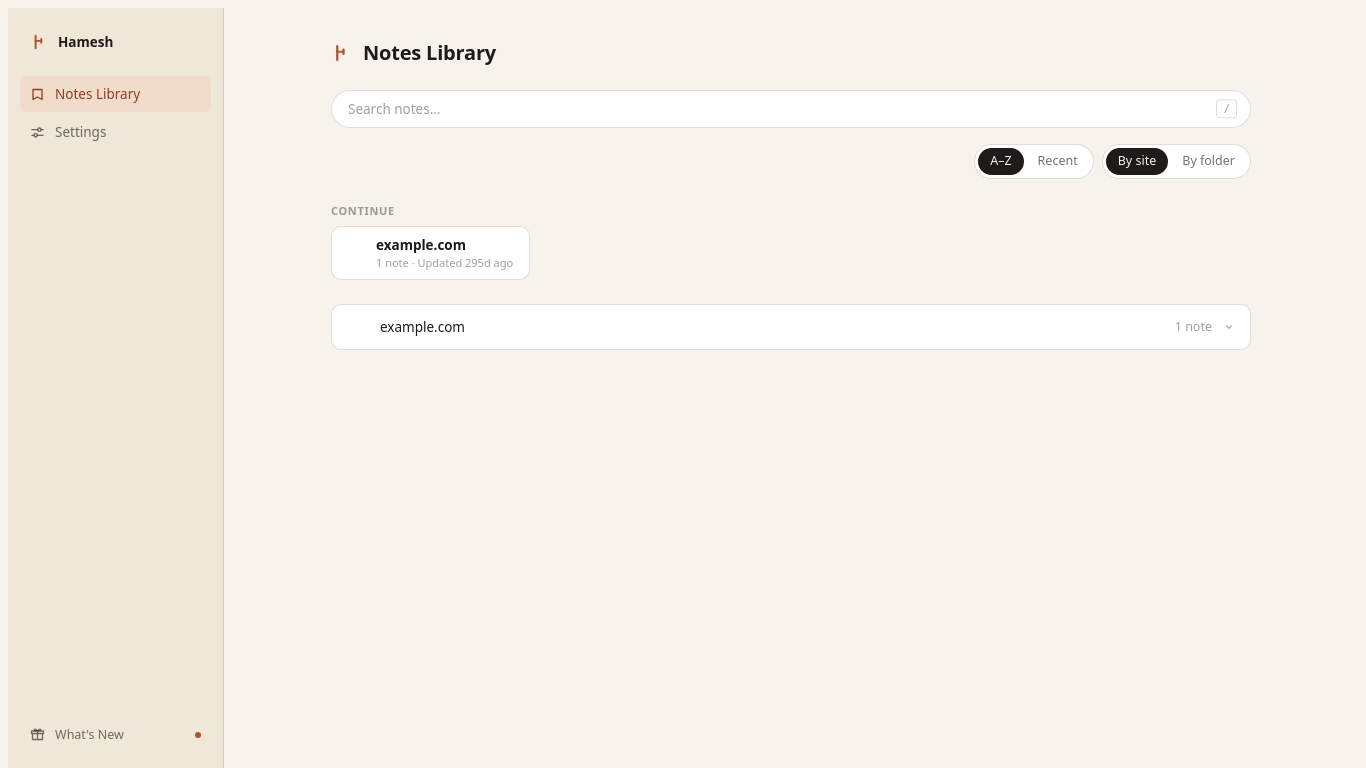
Notes Library page › falls back to the URL pathname (never "Untitled page") when a note has no pageContext title
Click the button "example.com 1 note" at (422, 327), box [332,305,1250,349]
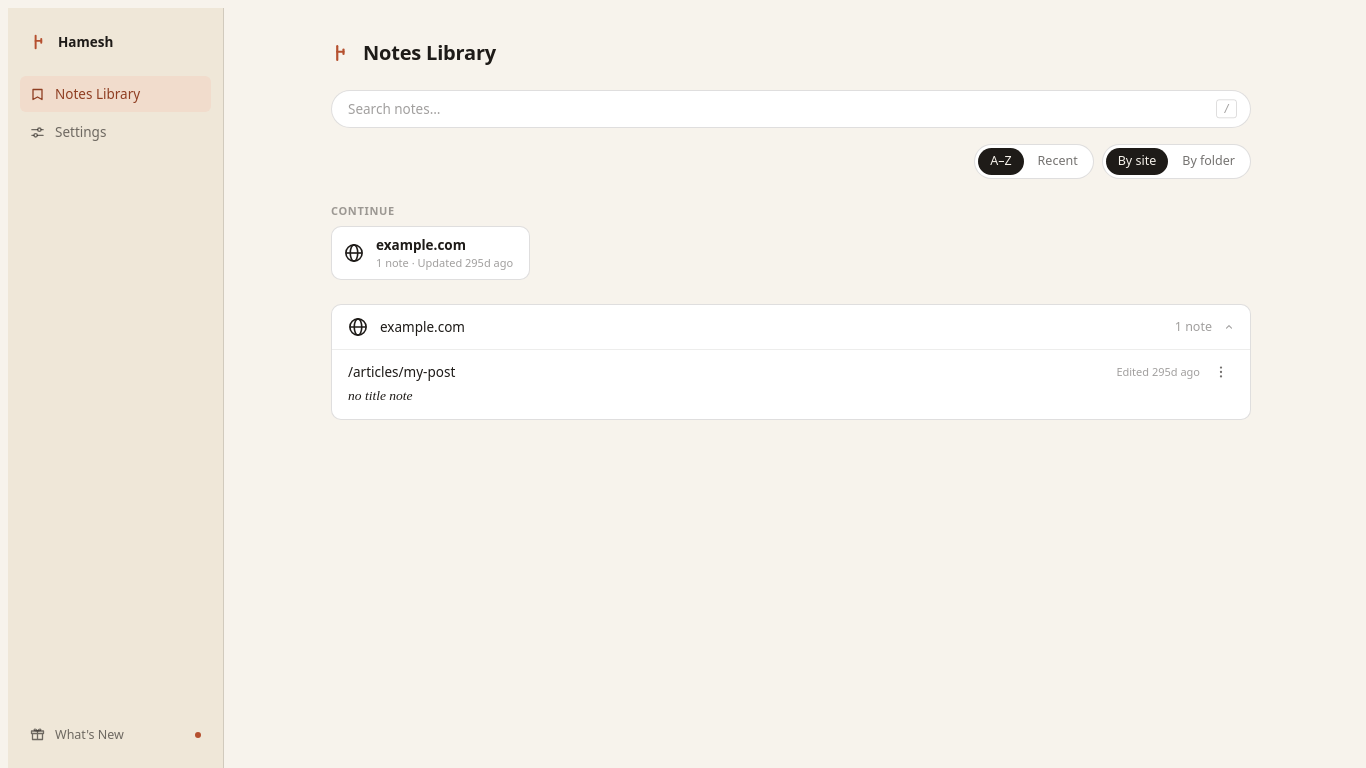
Now the text "/articles/my-post" is shown, box [348,362,455,382]
